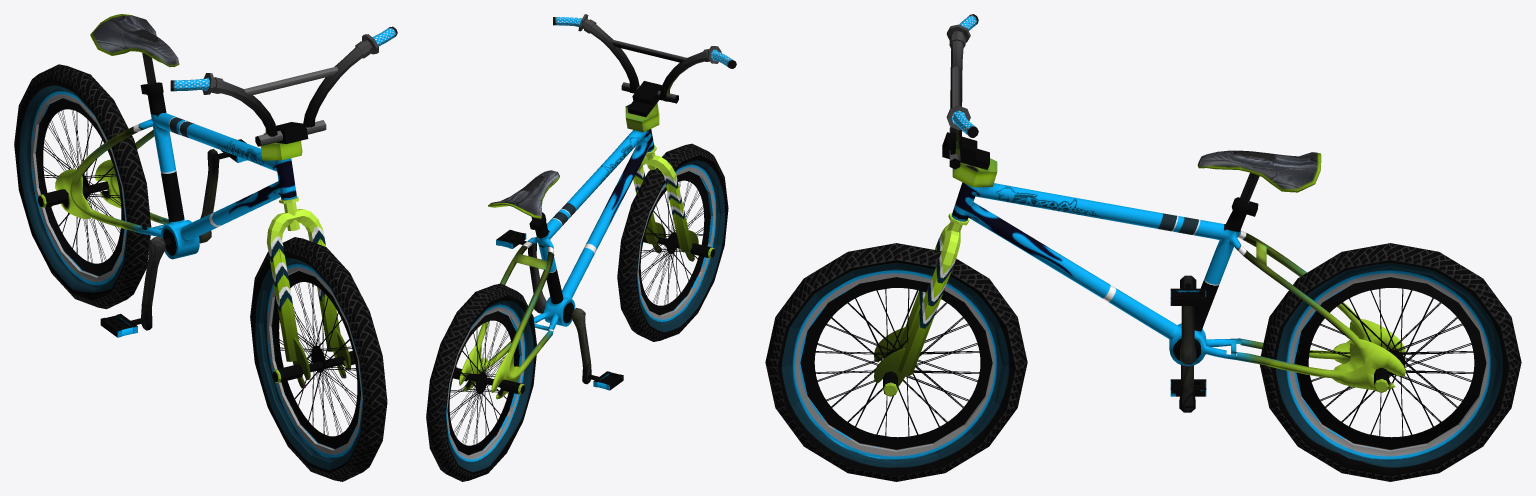
Rendered from cycle.FBX.
The picture shows the model from 3 angles, left to right: view 1: azimuth 30°, elevation 25°; view 2: azimuth 150°, elevation 25°; view 3: azimuth 270°, elevation 25°; orthographic projection. The views are drawn at different scales.
Visible parts, largest first — view 1: Object007; view 2: Object007; view 3: Object007.
Boxes of the visible parts, x1=… form: Object007: x1=14, y1=14, x2=397, y2=481; Object007: x1=426, y1=14, x2=736, y2=481; Object007: x1=765, y1=14, x2=1521, y2=481.
Bounding box in the file's own units: 87.1 × 146 × 240.
